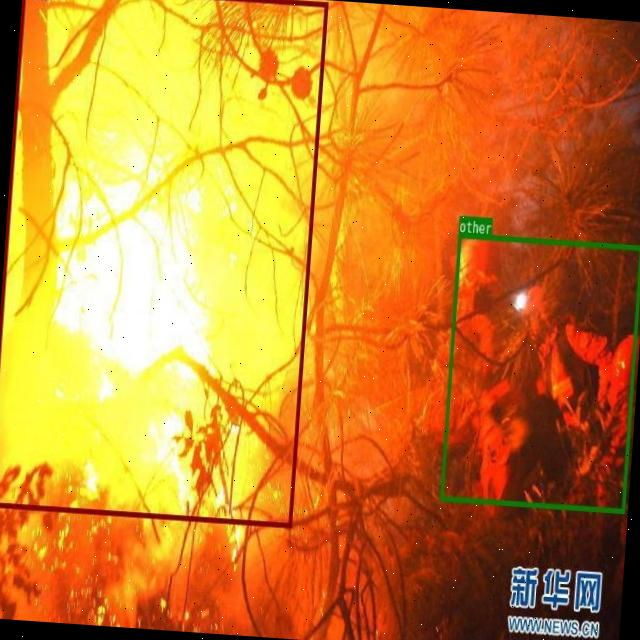fire: (0, 0, 327, 526)
